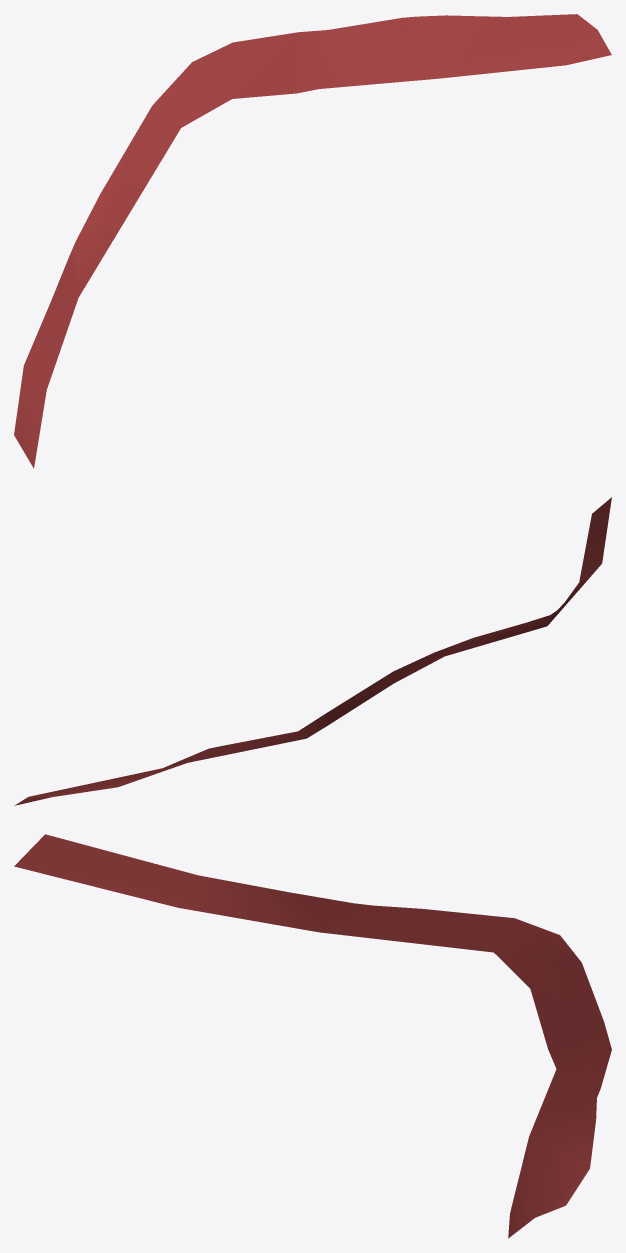
Rendered from spinalis-capitis-muscle-er.glb.
The picture shows the model from 3 angles, top to bottom: view 1: azimuth 30°, elevation 25°; view 2: azimuth 210°, elevation 25°; view 3: azimuth 270°, elevation 25°; orthographic projection. The views are drawn at different scales.
Visible parts, largest first — view 1: Spinalis capitis muscle.er; view 2: Spinalis capitis muscle.er; view 3: Spinalis capitis muscle.er.
Part boxes in pixels (x1,y1,x2,y2): Spinalis capitis muscle.er: (14,14,611,468); Spinalis capitis muscle.er: (14,497,611,805); Spinalis capitis muscle.er: (14,834,611,1238).
Bounding box in the file's own units: 0.0412 × 0.00659 × 0.0234.
